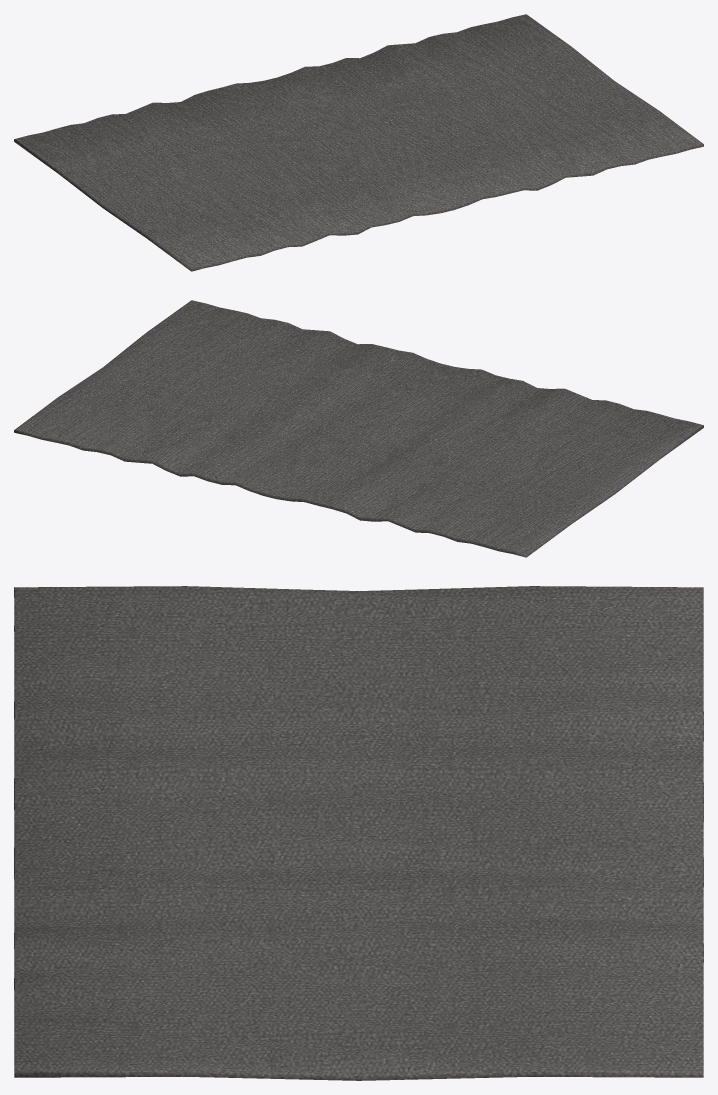
3 renders of one model, top to bottom at view 1: azimuth 30°, elevation 25°; view 2: azimuth 150°, elevation 25°; view 3: azimuth 270°, elevation 25°, orthographic. The views are drawn at different scales.
Parts seen in each view (by area): view 1: Plane001_carpet_0; view 2: Plane001_carpet_0; view 3: Plane001_carpet_0.
Part boxes in pixels (box(x1,y1,x2,y2)): Plane001_carpet_0: box(14, 14, 703, 271); Plane001_carpet_0: box(14, 300, 703, 557); Plane001_carpet_0: box(14, 586, 703, 1080).
Size of the model in its own units: 98.89 by 1.66 by 59.33.
Materials: 1 (1 with a texture image).
